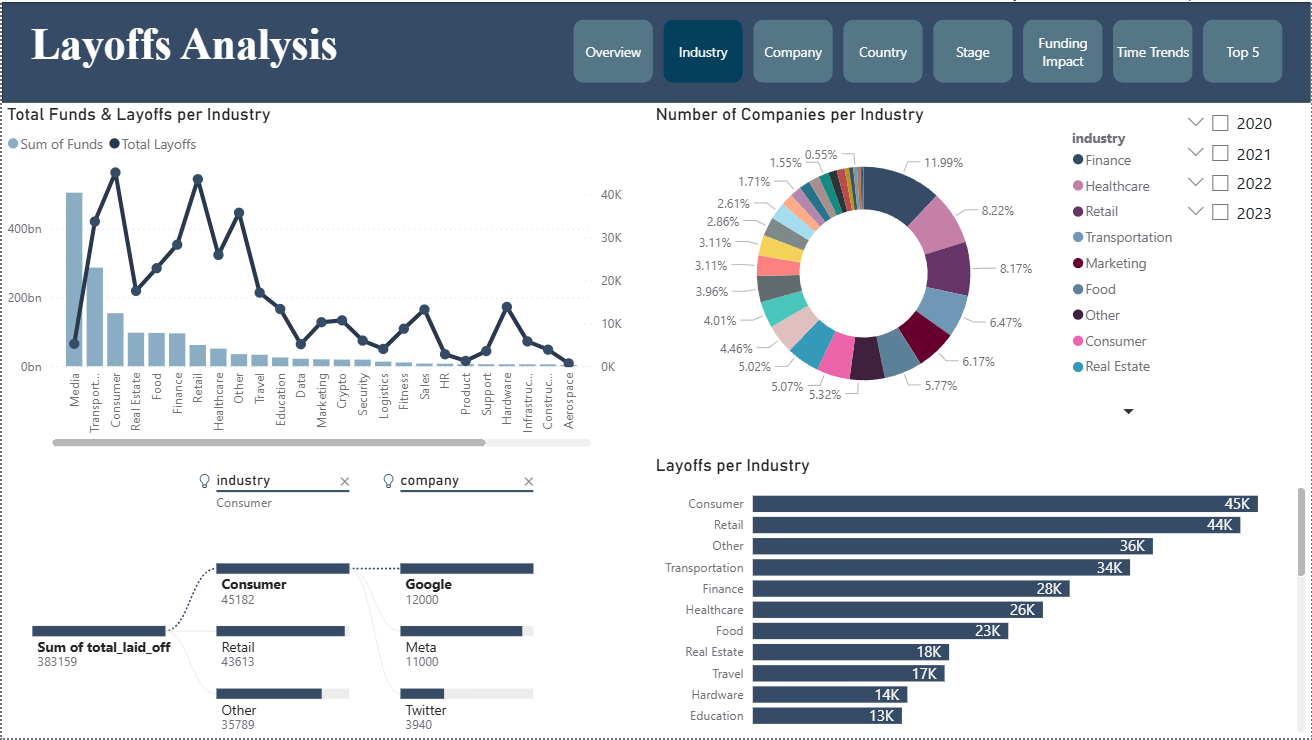

This screenshot's page, from the dashboard's own definition file:
{"tool":"powerbi","page":{"name":"Industry ","canvas":[1280,720],"ordinal":1},"visuals":[{"type":"shape","box":[0,0,1280.3,98.8],"z":0},{"type":"textbox","box":[23.3,12.3,333.4,74.1],"z":1000},{"type":"decompositionTreeVisual","fields":{"Analyze":["Sum(layoffs_projcet layoffs.total_laid_off)"],"ExplainBy":["layoffs_projcet layoffs.industry","layoffs_projcet layoffs.company"]},"box":[0,442.7,634.7,277.6],"z":2000},{"type":"lineClusteredColumnComboChart","title":"Total Funds & Layoffs per Industry","fields":{"Category":["layoffs_projcet layoffs.industry"],"Y":["Sum(layoffs_projcet layoffs.Funds_raised)"],"Y2":["Sum(layoffs_projcet layoffs.total_laid_off)"]},"box":[0,99,611.4,341.2],"z":3000},{"type":"donutChart","title":"Number of Companies per Industry","fields":{"Y":["CountNonNull(layoffs_projcet layoffs.company)"],"Category":["layoffs_projcet layoffs.industry"]},"box":[634.7,99,525.8,314.3],"z":4000},{"type":"slicer","fields":{"Values":["layoffs_projcet layoffs.date.Variation.Date Hierarchy.Year","layoffs_projcet layoffs.date.Variation.Date Hierarchy.Quarter","layoffs_projcet layoffs.date.Variation.Date Hierarchy.Month","layoffs_projcet layoffs.date.Variation.Date Hierarchy.Day"]},"box":[1147,99,133.3,280],"z":5000},{"type":"pageNavigator","box":[558.8,17.1,701.9,62.4],"z":6000},{"type":"clusteredBarChart","title":"Layoffs per Industry","fields":{"Y":["Sum(layoffs_projcet layoffs.total_laid_off)"],"Category":["layoffs_projcet layoffs.industry"]},"box":[634.7,442.7,645.7,277.6],"z":7000}]}

Visuals, with their boxes in screenshot pixels (x1, y1, x2, y2), scaled from the page's 1280x720 canvas onto the 1312x740 screenshot:
shape: 0 0 1311 102
textbox: 24 13 366 89
decompositionTreeVisual - Sum(layoffs_projcet layoffs.total_laid_off) x layoffs_projcet layoffs.industry: 0 455 651 739
"Total Funds & Layoffs per Industry" lineClusteredColumnComboChart: 0 102 627 452
"Number of Companies per Industry" donutChart: 651 102 1190 425
slicer - layoffs_projcet layoffs.date.Variation.Date Hierarchy.Year x layoffs_projcet layoffs.date.Variation.Date Hierarchy.Quarter: 1176 102 1311 390
pageNavigator: 573 18 1292 82
"Layoffs per Industry" clusteredBarChart: 651 455 1311 739
